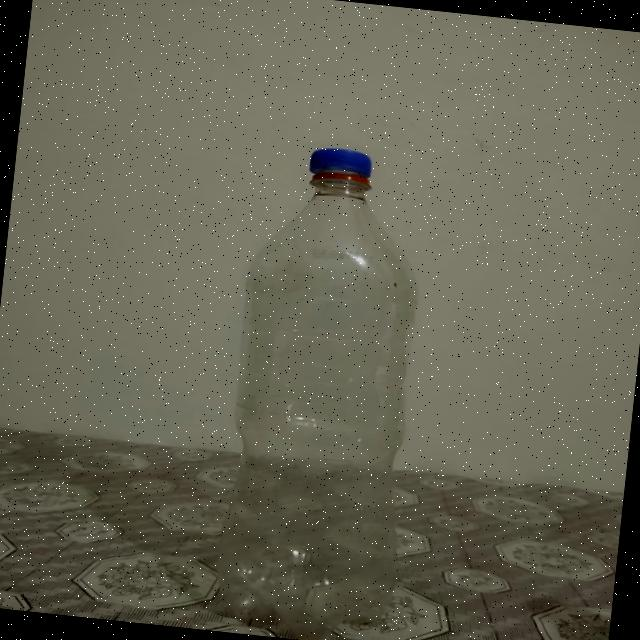bottle: (208, 138, 438, 640)
cap: (308, 146, 374, 186)
